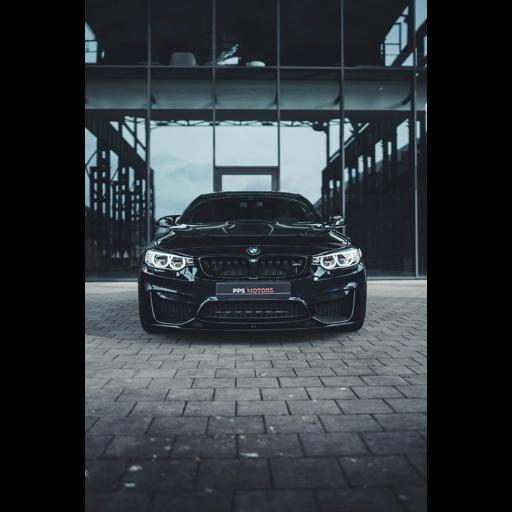sedan: (137, 192, 365, 330)
